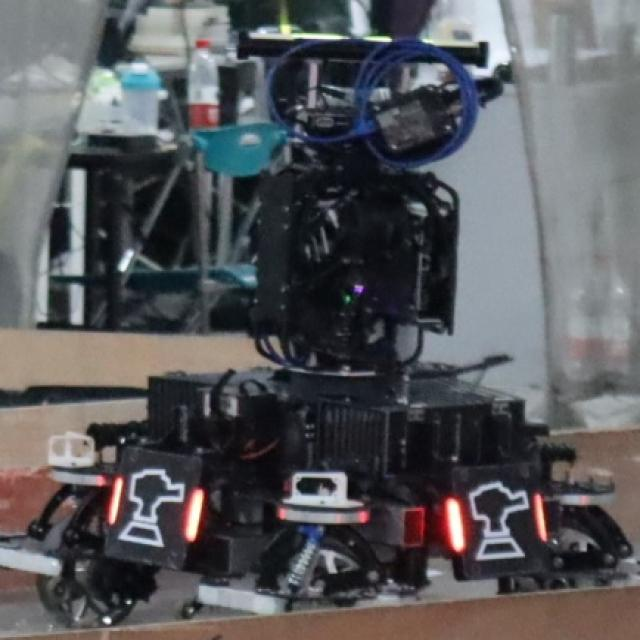Rs: (441, 469, 547, 564), (104, 459, 206, 556)
